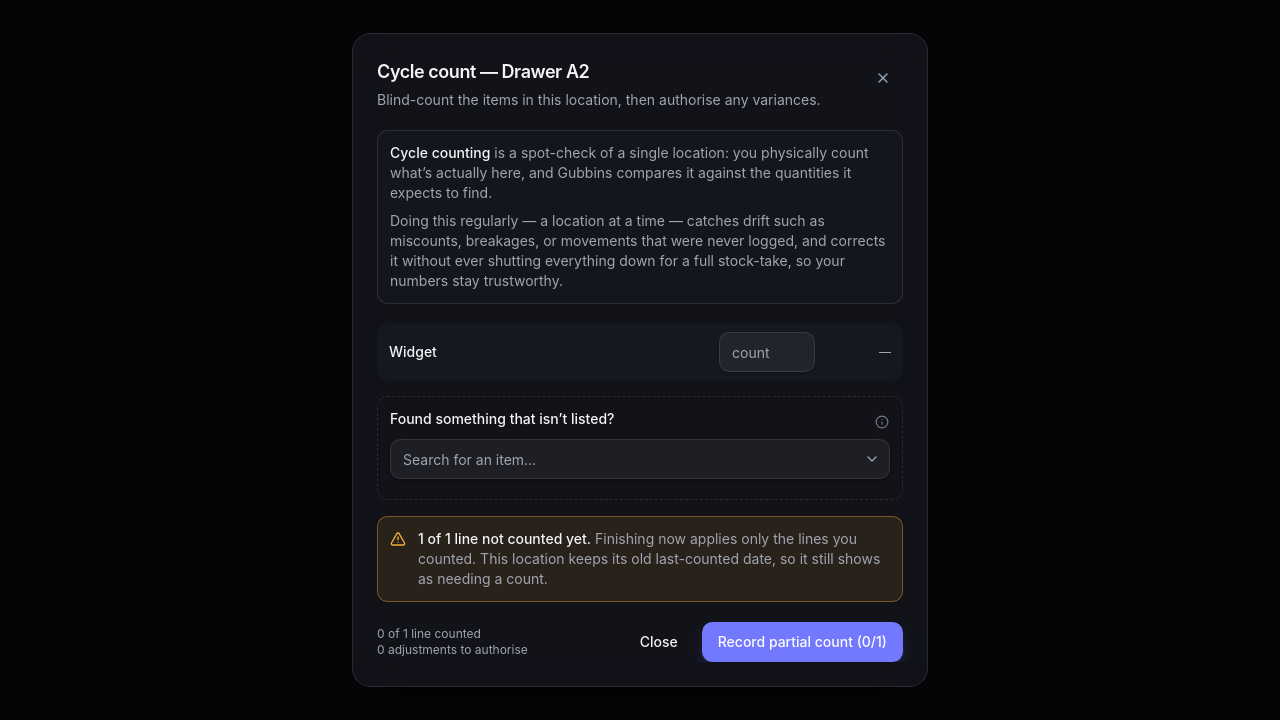
CycleCountDialog — a sheet with lines left blank › does not stamp the location as counted, and says so afterwards
The image size is (1280, 720).
Click the button with test id "authorise-reconciliation": (802, 642) [702, 622, 903, 662]
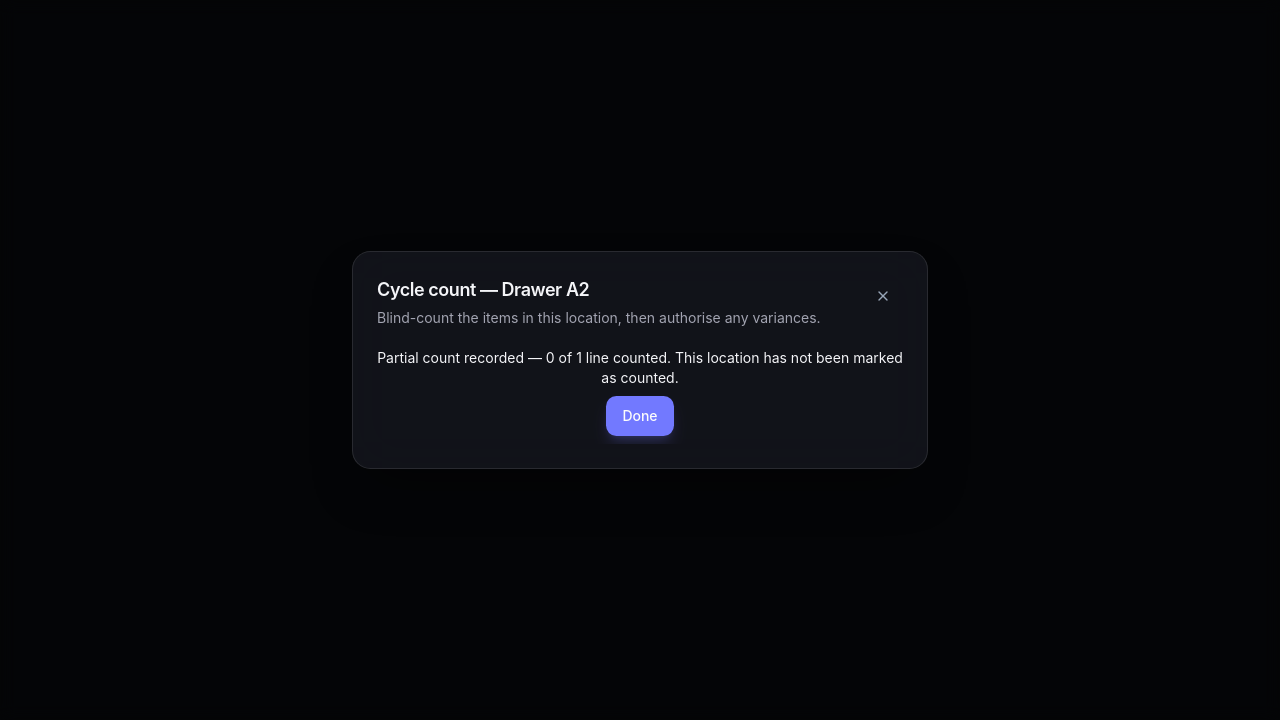
expect the message with test id "cycle-count-result" shows "Partial count recorded": met, box [377, 349, 903, 386]
expect the message with test id "cycle-count-result" shows "0 of 1 line counted": met, box [377, 349, 903, 386]
expect the message with test id "cycle-count-result" shows "has not been marked as counted": met, box [377, 349, 903, 386]
